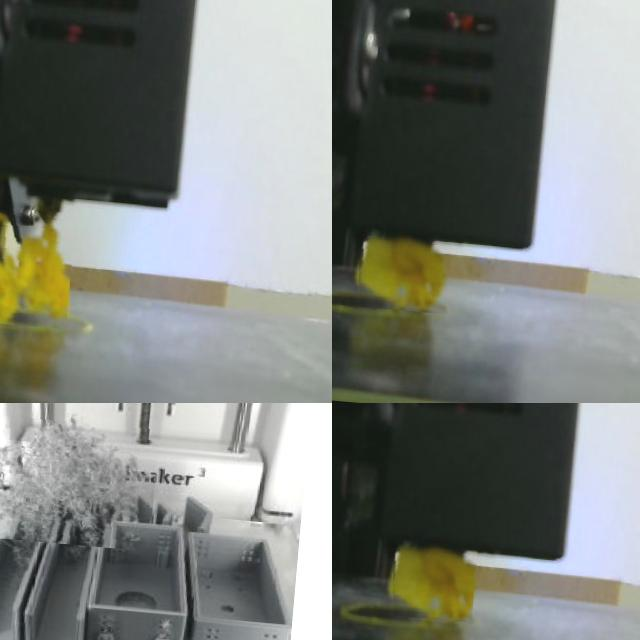spaghetti: (0, 407, 160, 551), (352, 231, 456, 314), (0, 225, 69, 323), (392, 548, 474, 621)
